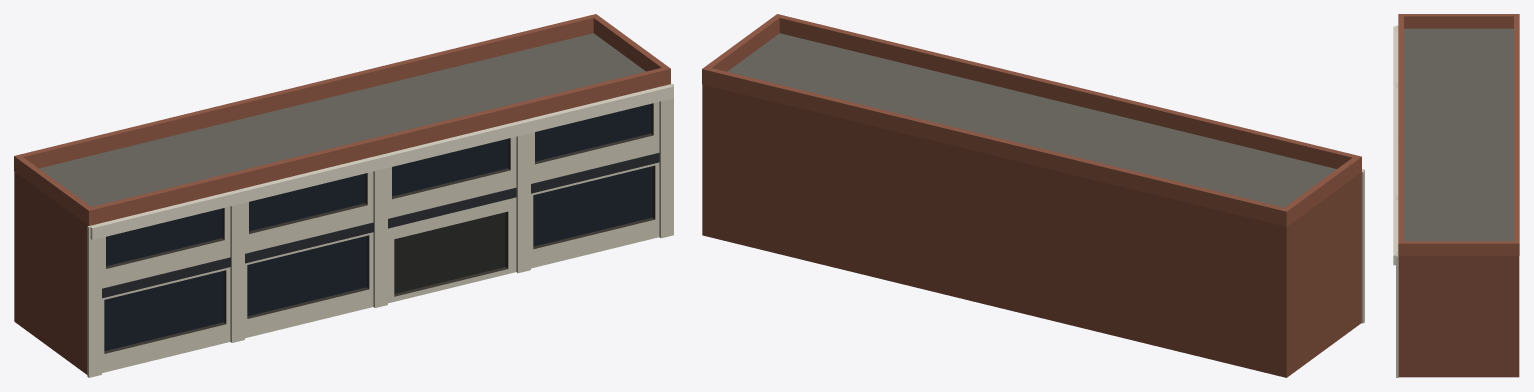
Rendered from bank-1913-b13415.glb.
The picture shows the model from 3 angles, left to right: view 1: azimuth 30°, elevation 25°; view 2: azimuth 150°, elevation 25°; view 3: azimuth 270°, elevation 25°; orthographic projection. The views are drawn at different scales.
Parts seen in each view (by area): view 1: kit-bank-1913-b13415; view 2: kit-bank-1913-b13415; view 3: kit-bank-1913-b13415.
Part boxes in pixels (box(x1,y1,x2,y2)): kit-bank-1913-b13415: box(14, 14, 673, 377); kit-bank-1913-b13415: box(702, 14, 1364, 377); kit-bank-1913-b13415: box(1393, 14, 1519, 377).
Bounding box in the file's own units: 36.2 × 9.8 × 8.37.
